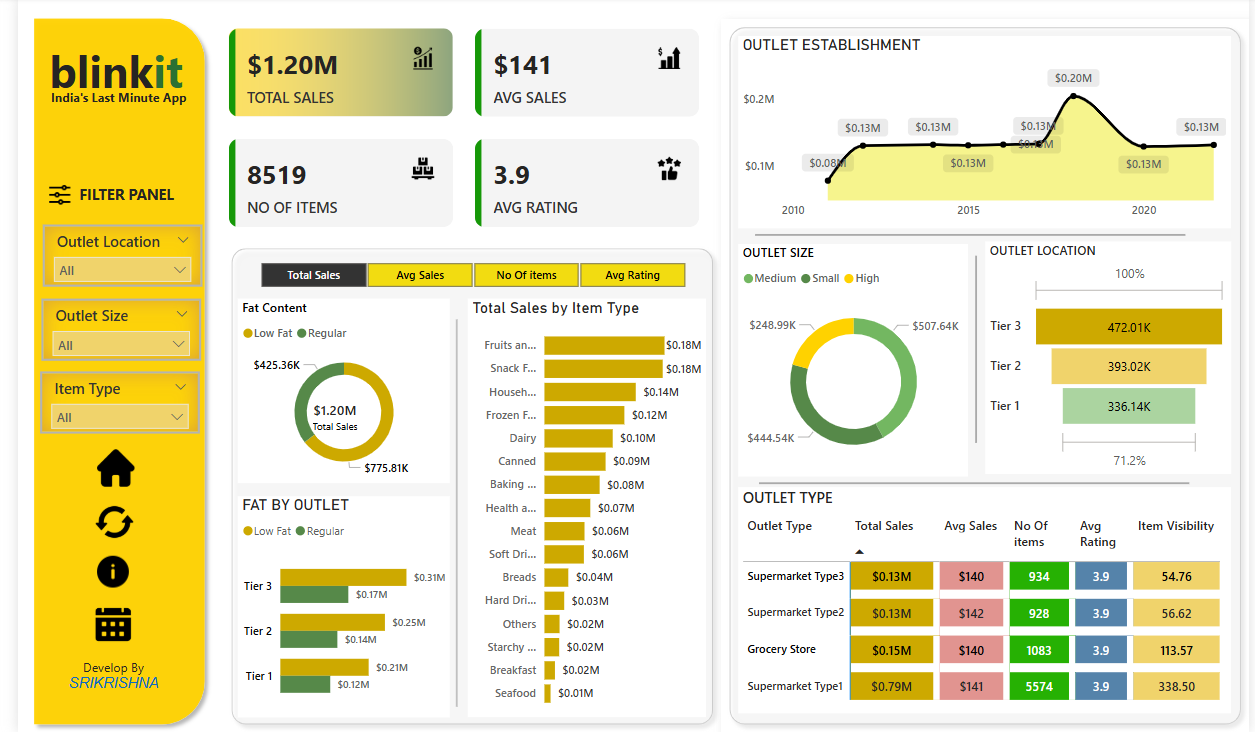

What the dashboard file says about the page in this screenshot:
{"tool":"powerbi","page":{"name":"Page 1","canvas":[1340,800],"ordinal":0},"visuals":[{"type":"shape","box":[8.5,14.1,203.7,786.5],"z":0},{"type":"textbox","box":[22.6,42.4,168.3,75],"z":1000},{"type":"textbox","box":[26.9,94.8,165.5,39.6],"z":2000},{"type":"cardVisual","fields":{"Data":["BlinkIT Grocery Data.Total Sales","BlinkIT Grocery Data.Avg Sales","BlinkIT Grocery Data.No Of items","BlinkIT Grocery Data.Avg Rating"]},"box":[212.2,17,547.4,251.8],"z":3000},{"type":"shape","box":[223.5,264.5,541.7,536.1],"z":4000},{"type":"slicer","fields":{"Values":["Metrics.Metrics"]},"box":[239,282.9,510.6,36.8],"z":5000},{"type":"donutChart","title":"Fat Content","fields":{"Y":["BlinkIT Grocery Data.Total Sales"],"Category":["BlinkIT Grocery Data.Item Fat Content"]},"box":[239,328.2,230.6,200.9],"z":6000},{"type":"cardVisual","fields":{"Data":["BlinkIT Grocery Data.Total Sales"]},"box":[288.6,421.5,113.2,56.6],"z":7000},{"type":"clusteredBarChart","title":"FAT BY OUTLET","fields":{"Y":["BlinkIT Grocery Data.Total Sales"],"Series":["BlinkIT Grocery Data.Item Fat Content"],"Category":["BlinkIT Grocery Data.Outlet Location Type"]},"box":[239,543.2,230.6,240.5],"z":8000},{"type":"shape","box":[469.6,350.8,15.6,421.5],"z":9000},{"type":"barChart","fields":{"Y":["BlinkIT Grocery Data.Total Sales"],"Category":["BlinkIT Grocery Data.Item Type"]},"box":[489.4,328.2,258.9,455.5],"z":10000},{"type":"shape","box":[765.2,24,574.3,776.6],"z":11000},{"type":"lineChart","title":"OUTLET ESTABLISHMENT","fields":{"Y":["BlinkIT Grocery Data.Total Sales"],"Category":["BlinkIT Grocery Data.Outlet Establishment Year"]},"box":[783.6,42.4,536.1,209.3],"z":12000},{"type":"shape","box":[802,251.8,468.2,14.1],"z":13000},{"type":"donutChart","title":"OUTLET SIZE","fields":{"Y":["BlinkIT Grocery Data.Total Sales"],"Category":["BlinkIT Grocery Data.Outlet Size"]},"box":[783.6,268.8,250.4,253.2],"z":14000},{"type":"shape","box":[1034,281.5,17,203.7],"z":15000},{"type":"funnel","title":"OUTLET LOCATION","fields":{"Y":["Sum(BlinkIT Grocery Data.Sales)"],"Category":["BlinkIT Grocery Data.Outlet Location Type"]},"box":[1052.4,265.9,267.3,253.2],"z":16000},{"type":"shape","box":[806.3,521.9,468.2,14.1],"z":17000},{"type":"pivotTable","title":"OUTLET TYPE","fields":{"Rows":["BlinkIT Grocery Data.Outlet Type"],"Values":["BlinkIT Grocery Data.Total Sales","BlinkIT Grocery Data.Avg Sales","BlinkIT Grocery Data.No Of items","BlinkIT Grocery Data.Avg Rating","Sum(BlinkIT Grocery Data.Item Visibility)"]},"box":[783.6,533.3,536.1,246.1],"z":18000},{"type":"slicer","fields":{"Values":["BlinkIT Grocery Data.Outlet Location Type"]},"box":[26.9,247.5,174,67.9],"z":19000},{"type":"slicer","fields":{"Values":["BlinkIT Grocery Data.Outlet Size"]},"box":[25.5,328.2,174,67.9],"z":20000},{"type":"slicer","fields":{"Values":["BlinkIT Grocery Data.Item Type"]},"box":[24,407.4,174,67.9],"z":21000},{"type":"textbox","box":[38.2,198,159.8,39.6],"z":22000},{"type":"image","box":[77.8,656.3,50.9,53.7],"z":23000},{"type":"image","box":[80.6,602.6,45.3,45.3],"z":24000},{"type":"image","box":[79.2,543.2,50.9,56.6],"z":25000},{"type":"image","box":[80.6,485.2,50.9,55.2],"z":26000},{"type":"textbox","box":[21.2,714.3,165.5,66.5],"z":27000},{"type":"image","box":[25.5,195.2,39.6,39.6],"z":28000}]}

Visuals, with their boxes in screenshot pixels (x1, y1, x2, y2), scaled from the page's 1340x800 canvas onto the 1255x732 screenshot:
shape: 8 13 199 731
textbox: 21 39 179 107
textbox: 25 87 180 123
cardVisual - BlinkIT Grocery Data.Total Sales x BlinkIT Grocery Data.Avg Sales: 199 16 711 246
shape: 209 242 717 731
slicer - Metrics.Metrics: 224 259 702 293
"Fat Content" donutChart: 224 300 440 484
cardVisual - BlinkIT Grocery Data.Total Sales: 270 386 376 437
"FAT BY OUTLET" clusteredBarChart: 224 497 440 717
shape: 440 321 454 707
barChart - BlinkIT Grocery Data.Total Sales x BlinkIT Grocery Data.Item Type: 458 300 701 717
shape: 717 22 1254 731
"OUTLET ESTABLISHMENT" lineChart: 734 39 1236 230
shape: 751 230 1190 243
"OUTLET SIZE" donutChart: 734 246 968 478
shape: 968 258 984 444
"OUTLET LOCATION" funnel: 986 243 1236 475
shape: 755 478 1194 490
"OUTLET TYPE" pivotTable: 734 488 1236 713
slicer - BlinkIT Grocery Data.Outlet Location Type: 25 226 188 289
slicer - BlinkIT Grocery Data.Outlet Size: 24 300 187 362
slicer - BlinkIT Grocery Data.Item Type: 22 373 185 435
textbox: 36 181 185 217
image: 73 601 121 650
image: 75 551 118 593
image: 74 497 122 549
image: 75 444 123 494
textbox: 20 654 175 714
image: 24 179 61 215
